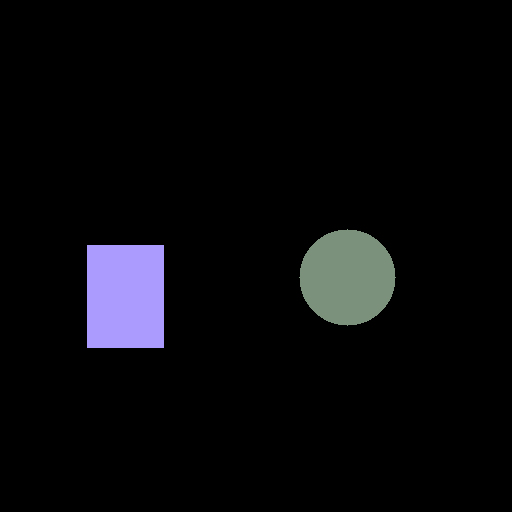circle: (299, 229, 395, 325)
rectangle: (87, 245, 163, 347)
